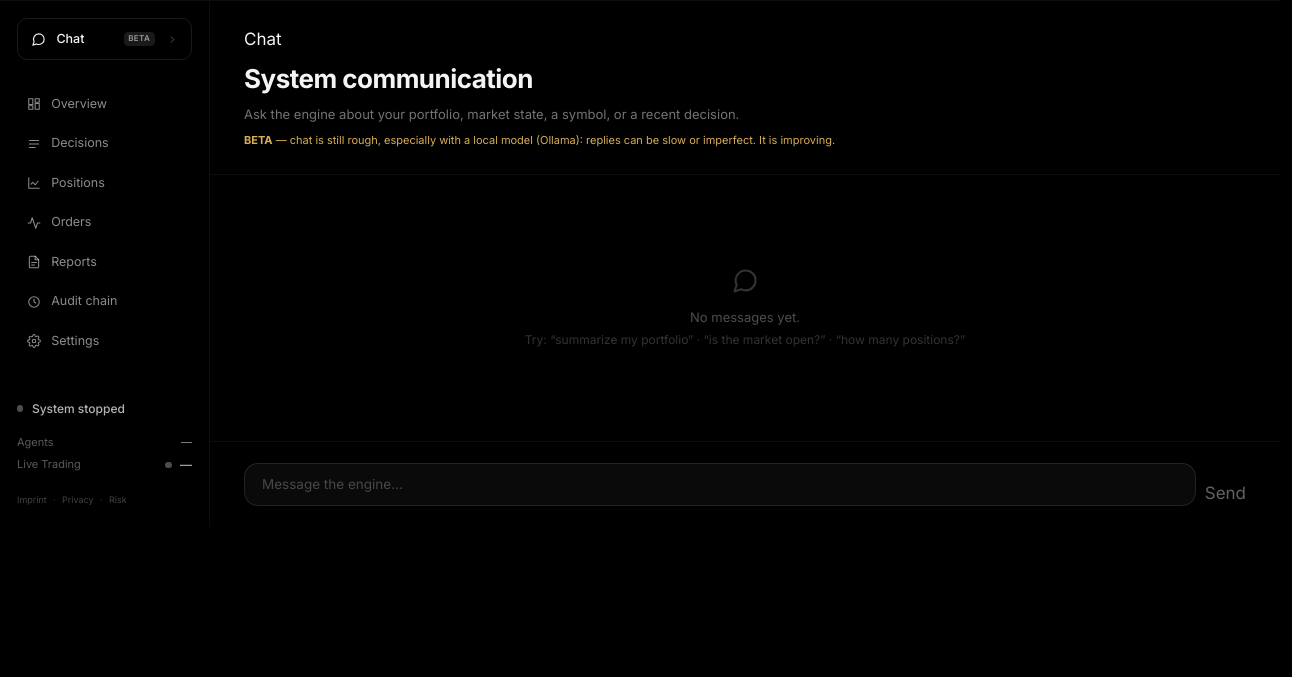
it: Journey · Settings (engine lifecycle & safety) › shows the seeded status and replays the engine log on open
Click the button "Settings". click: (105, 341)
box: [13,322,196,360]
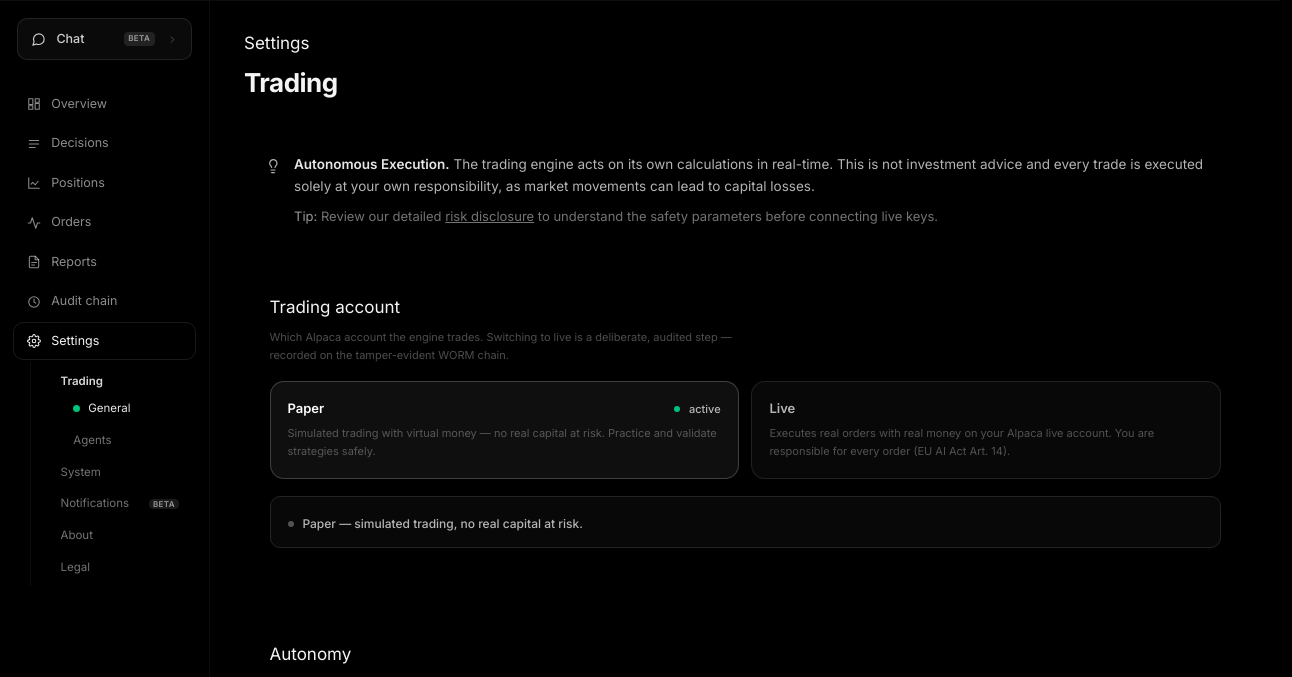
Click the button "System". click: (120, 472)
box: [48,457,192,487]
(page scrolled)
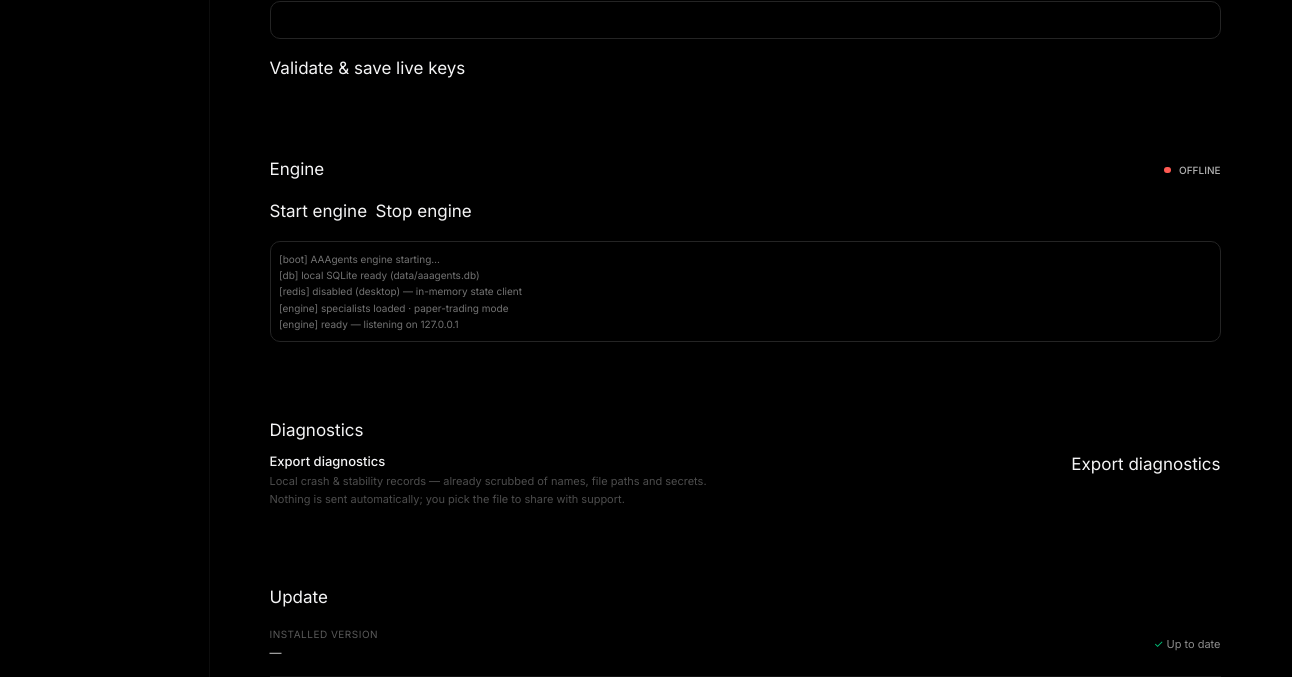
Expected: the text "[engine] ready — listening on 127.0.0.1" is shown, [279,318,458,330]
